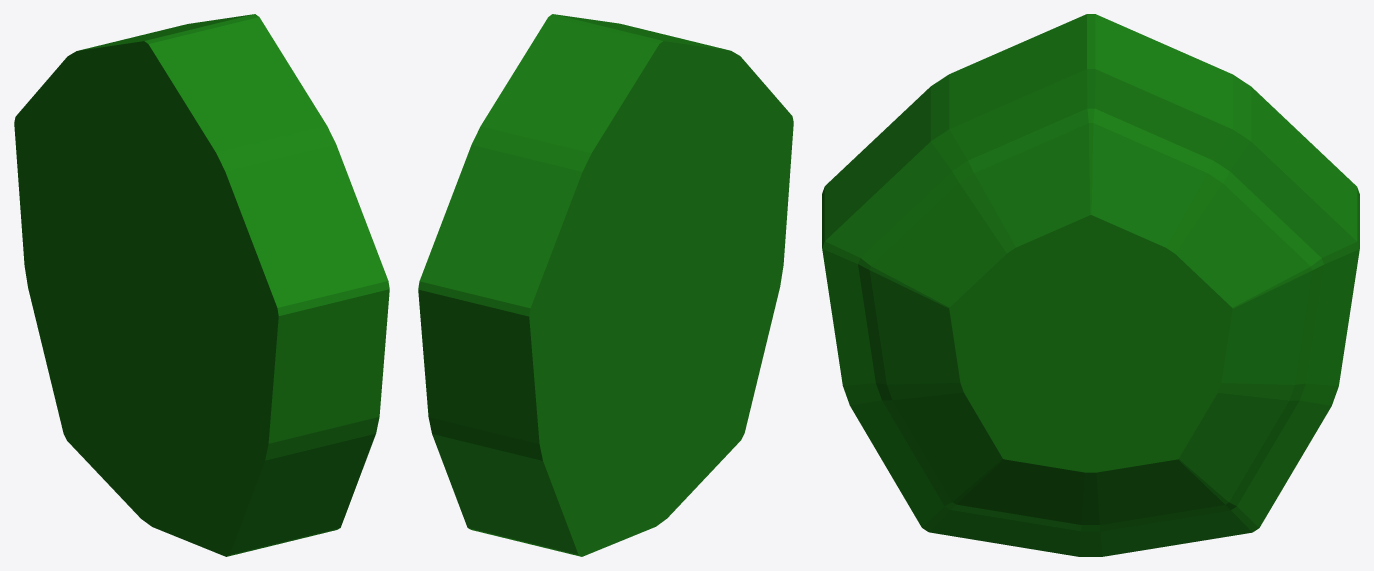
File: Starfragment6.fbx
3 renders of one model, left to right at view 1: azimuth 30°, elevation 25°; view 2: azimuth 150°, elevation 25°; view 3: azimuth 270°, elevation 25°, orthographic.
Parts seen in each view (by area): view 1: Cube.002; view 2: Cube.002; view 3: Cube.002.
Boxes of the visible parts, box(x1,y1,x2,y2) form: Cube.002: box(14, 14, 389, 556); Cube.002: box(418, 14, 793, 556); Cube.002: box(822, 14, 1359, 556).
Bounding box in the file's own units: 62.57 × 176 × 175.
